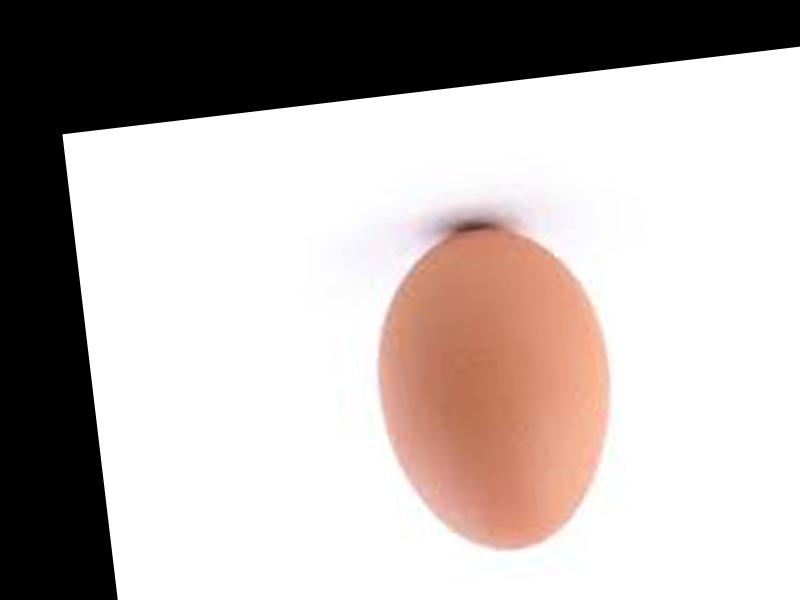Eggs: (359, 216, 628, 562)
